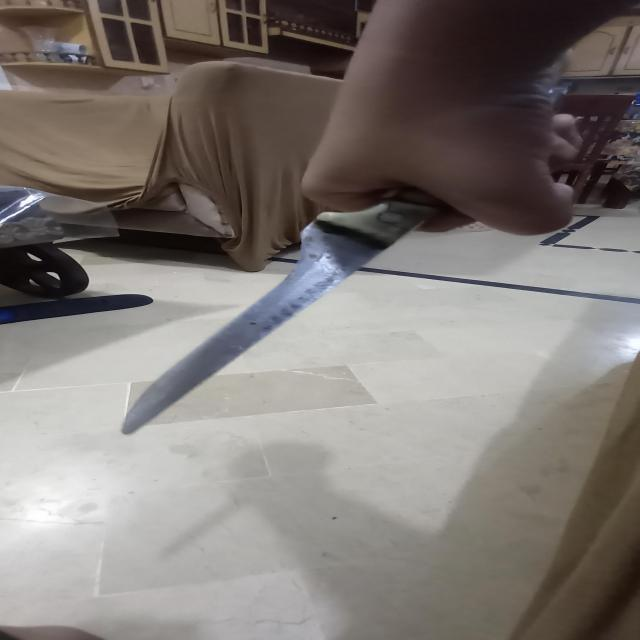Knife: (101, 151, 523, 435)
